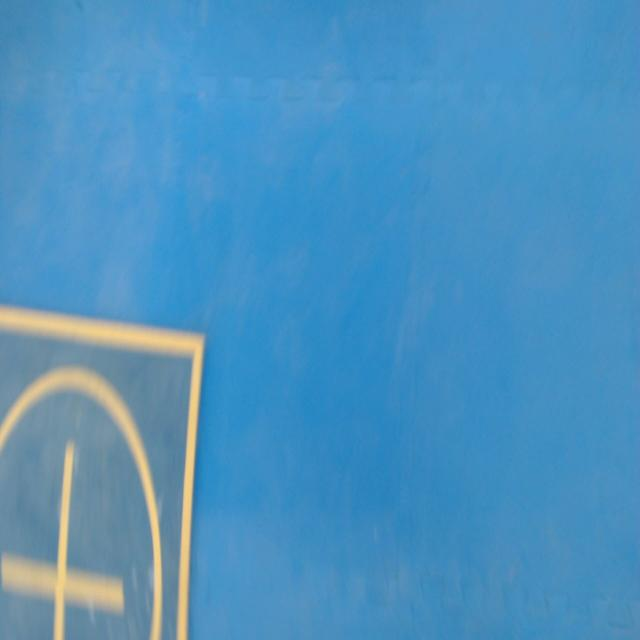base_pouso: (0, 305, 206, 639)
